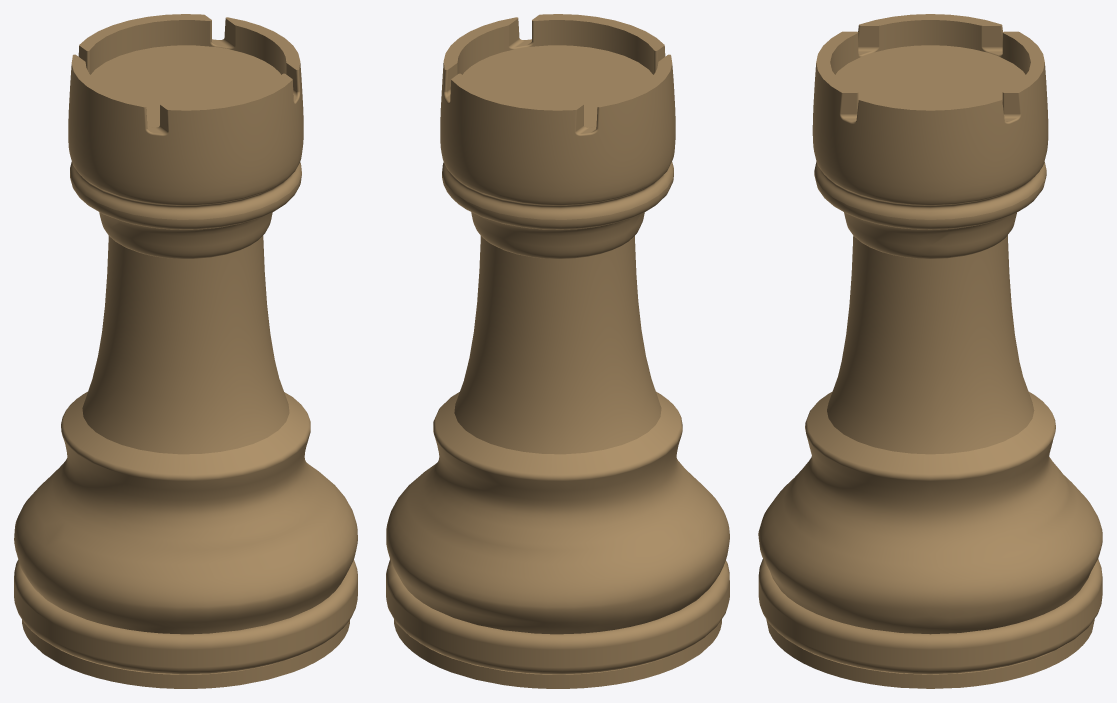
The model's file is RookGold.fbx.
3 views of the same model, side by side, from view 1: azimuth 30°, elevation 25°; view 2: azimuth 150°, elevation 25°; view 3: azimuth 270°, elevation 25° (orthographic).
Visible parts, largest first — view 1: Ладья (1) (1); view 2: Ладья (1) (1); view 3: Ладья (1) (1).
Boxes of the visible parts, x1,y1,x2,y2 form: Ладья (1) (1): (14,14,357,688); Ладья (1) (1): (386,14,729,688); Ладья (1) (1): (758,14,1102,688).
Size of the model in its own units: 1.85 by 3.3 by 1.85.
